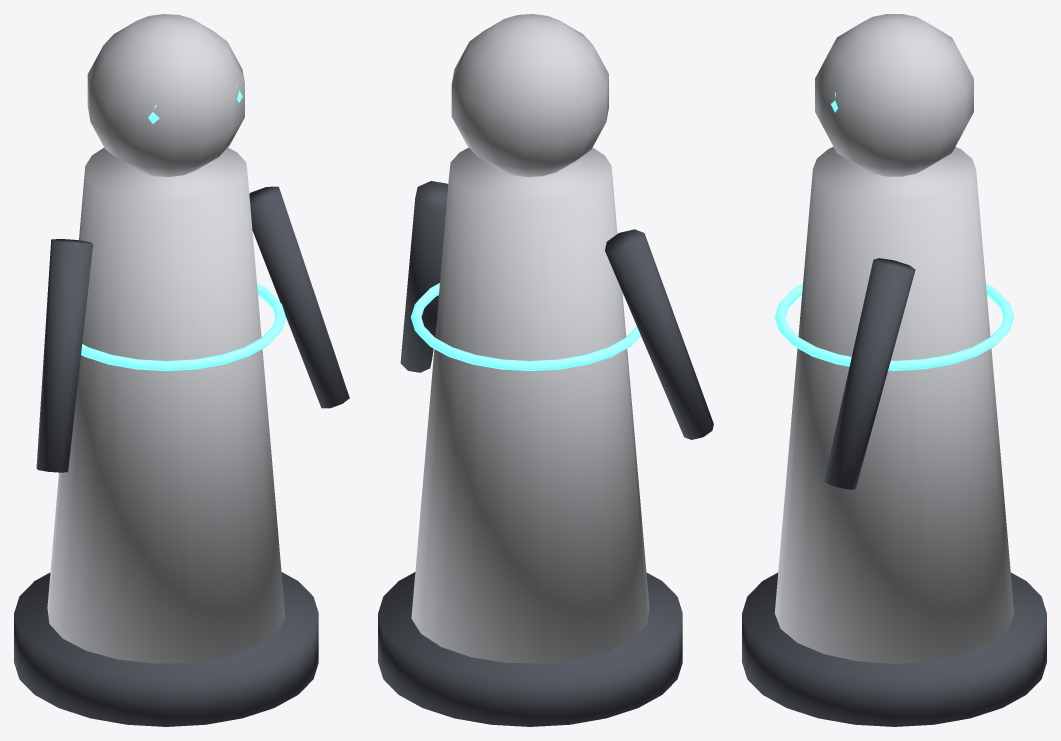
Rendered from android_service_bot.glb.
The picture shows the model from 3 angles, left to right: view 1: azimuth 30°, elevation 25°; view 2: azimuth 150°, elevation 25°; view 3: azimuth 270°, elevation 25°; orthographic projection.
Parts seen in each view (by area): view 1: GD_android_service_bot__m1, GD_android_service_bot__m0, GD_android_service_bot__m2; view 2: GD_android_service_bot__m1, GD_android_service_bot__m0, GD_android_service_bot__m2; view 3: GD_android_service_bot__m1, GD_android_service_bot__m0, GD_android_service_bot__m2.
Boxes of the visible parts, x1,y1,x2,y2 form: GD_android_service_bot__m1: (47,14,285,663); GD_android_service_bot__m0: (14,186,349,726); GD_android_service_bot__m2: (81,85,285,370); GD_android_service_bot__m1: (411,14,649,663); GD_android_service_bot__m0: (378,181,713,726); GD_android_service_bot__m2: (411,283,640,370); GD_android_service_bot__m1: (774,14,1014,663); GD_android_service_bot__m0: (742,258,1046,726); GD_android_service_bot__m2: (774,92,1014,370).
Bounding box in the file's own units: 0.6583 × 1.3 × 0.56.
